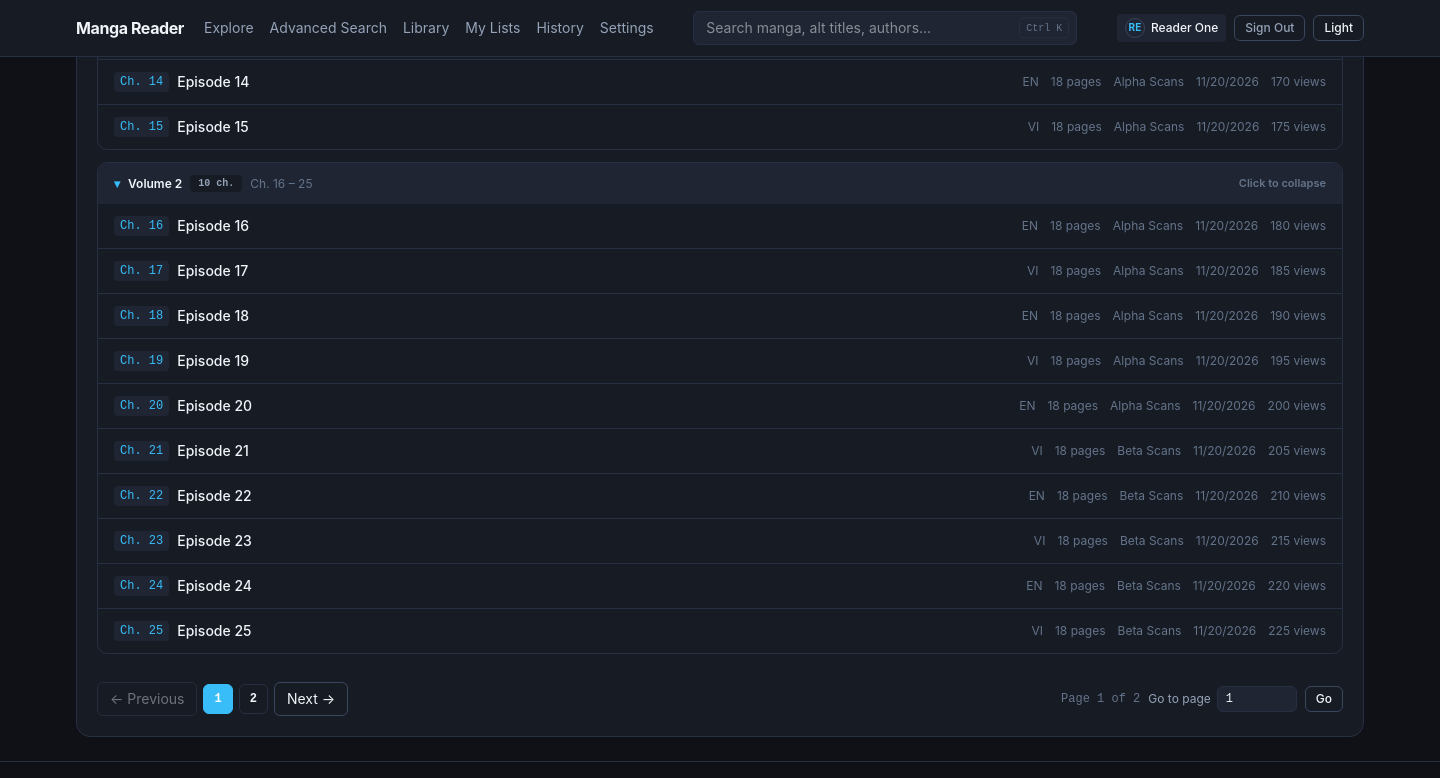
Test: Manga Reader Frontend Application › switches MangaDetailPage animated tabs cleanly and paginates/filters chapters in Volume Groups mode
The width and height of the screenshot is (1440, 778).
(page scrolled)
Expected: the text "Episode 30" is not shown
Click the button "Next →". click: coordinates (311, 699)
box: [274, 682, 348, 716]
(page scrolled)
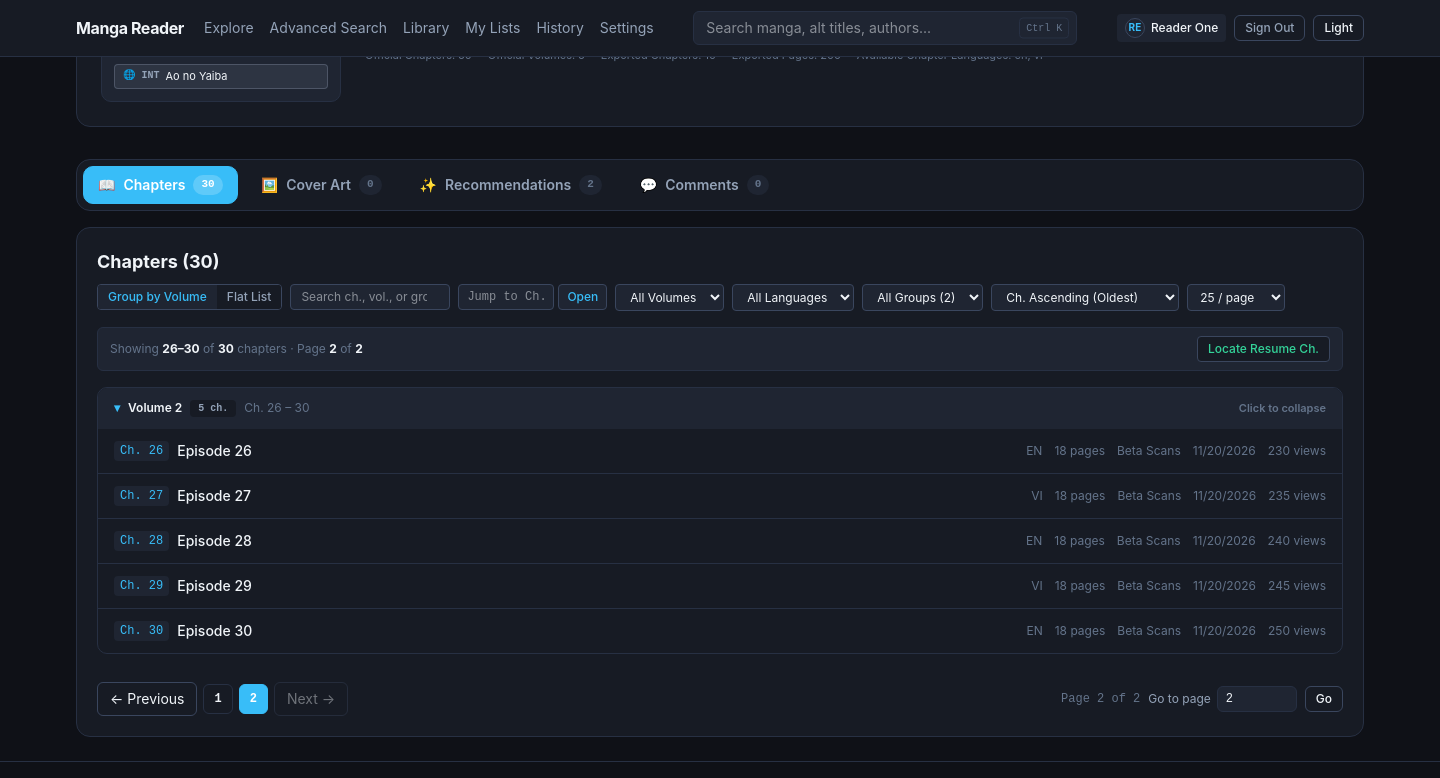
Expected: the link "Episode 1" is not shown
Now the element with test id "chapter-pagination-summary" reads "Showing 26–30 of 30 chapters · Page 2 of 2", box [110, 341, 363, 357]
Now the text "Episode 30" is shown, box [177, 621, 252, 641]
Filter by scanlation group then reset
Select "Beta Scans" in the dropdown named "Filter scanlation group". click: coordinates (923, 297)
box: [862, 284, 983, 311]
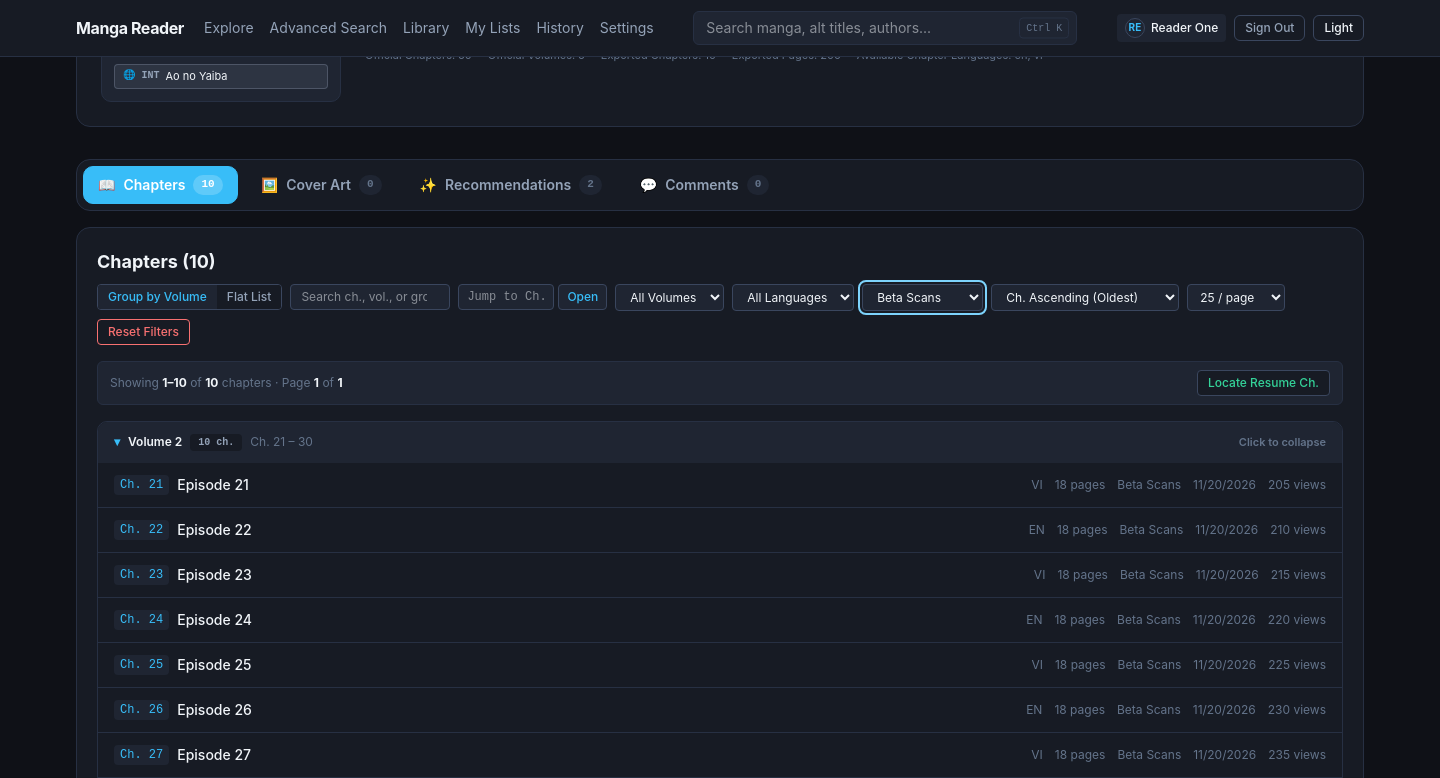
Now the heading "Chapters (10)" is shown, box [97, 248, 216, 276]
Now the text "Episode 21" is shown, box [177, 475, 249, 495]
Click the button "Reset Filters". click: coordinates (143, 332)
box: [97, 319, 190, 345]
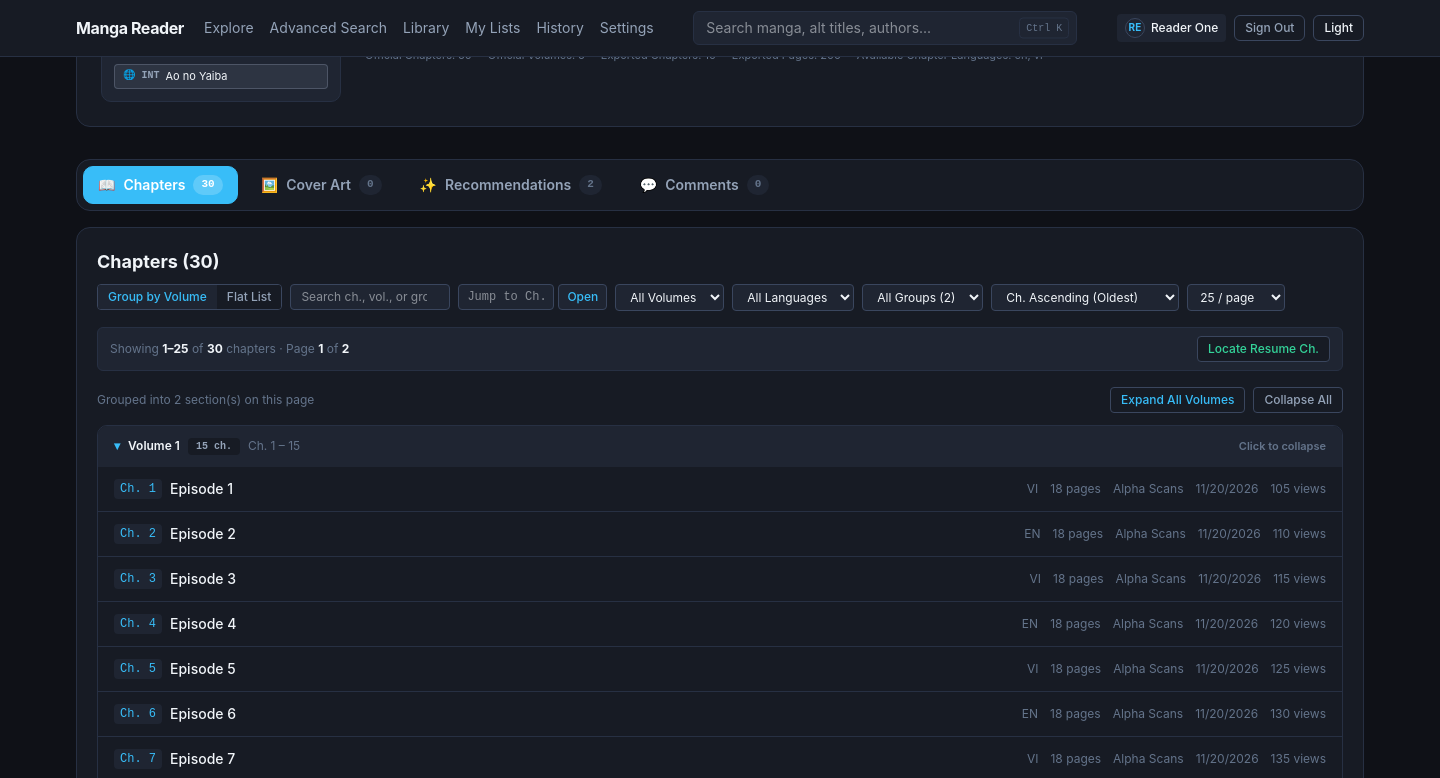
Now the heading "Chapters (30)" is shown, box [97, 248, 220, 276]
Switch through Recommendations and Comments tabs exclusively
Click the tab "✨ Recommendations 2". click: coordinates (511, 185)
box: [405, 166, 617, 204]
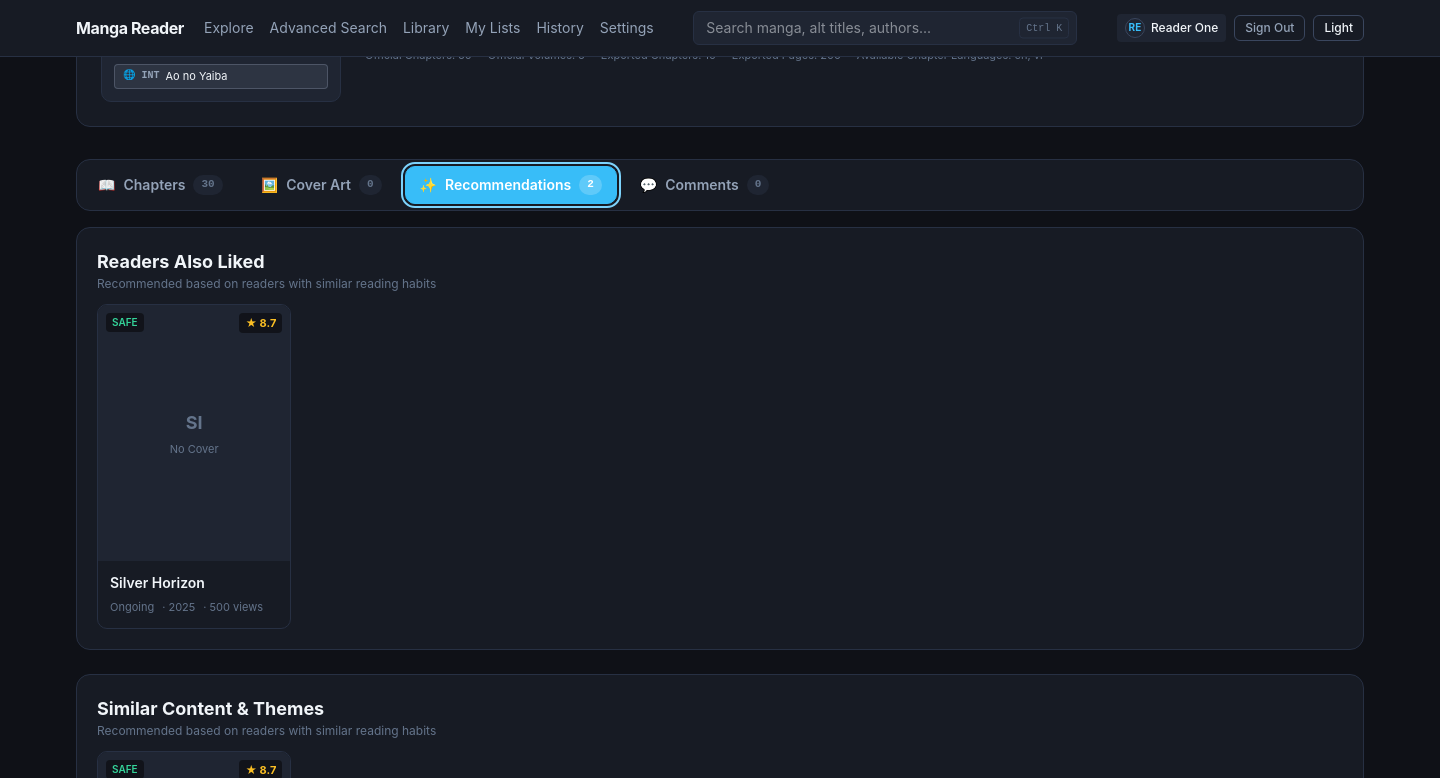
Now the link "Silver Horizon" is shown, box [110, 574, 205, 591]
Now the heading "Chapters (30)" is gone
Click the tab "💬 Comments 0". click: coordinates (705, 185)
box: [625, 166, 784, 204]
(page scrolled)
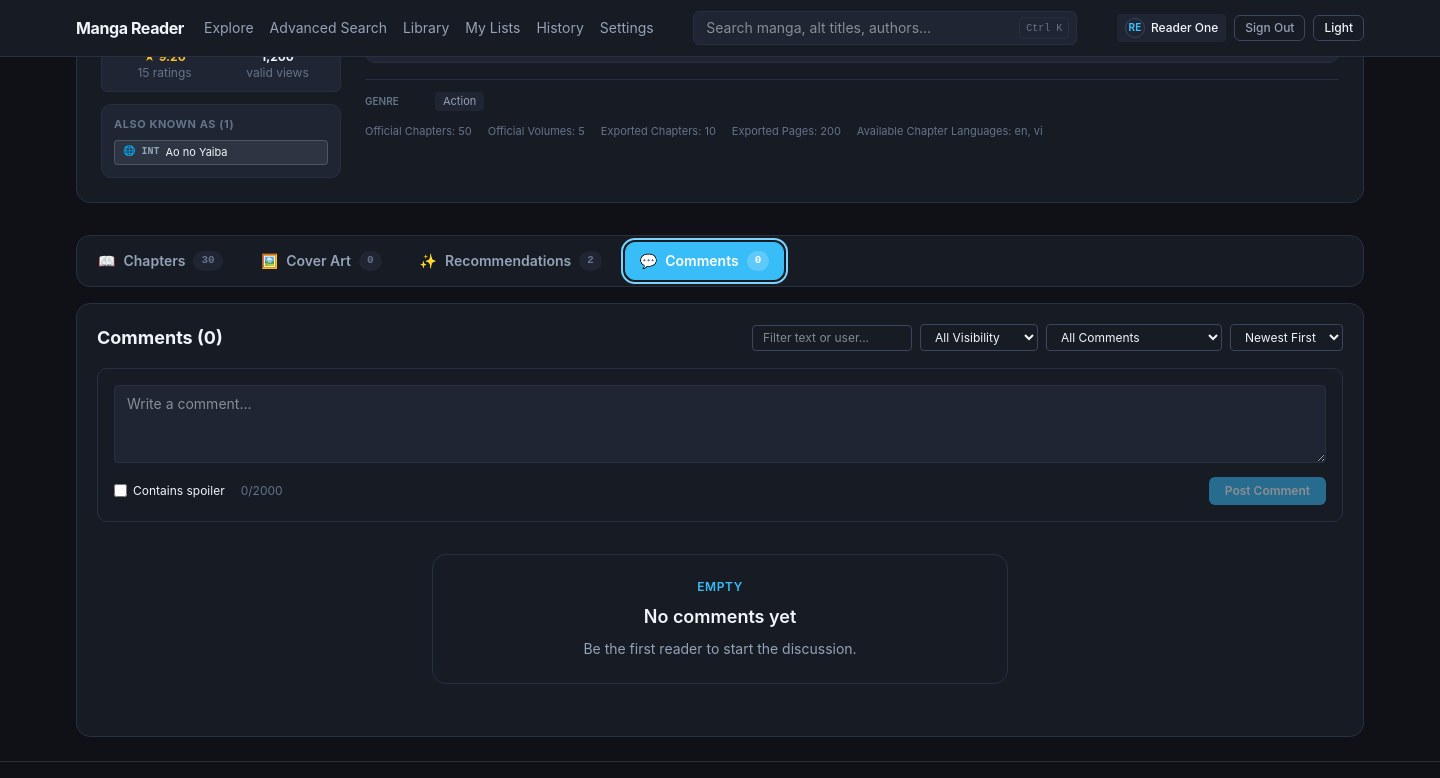
Now the button "Post Comment" is shown, box [1209, 477, 1326, 505]
Now the link "Silver Horizon" is gone
